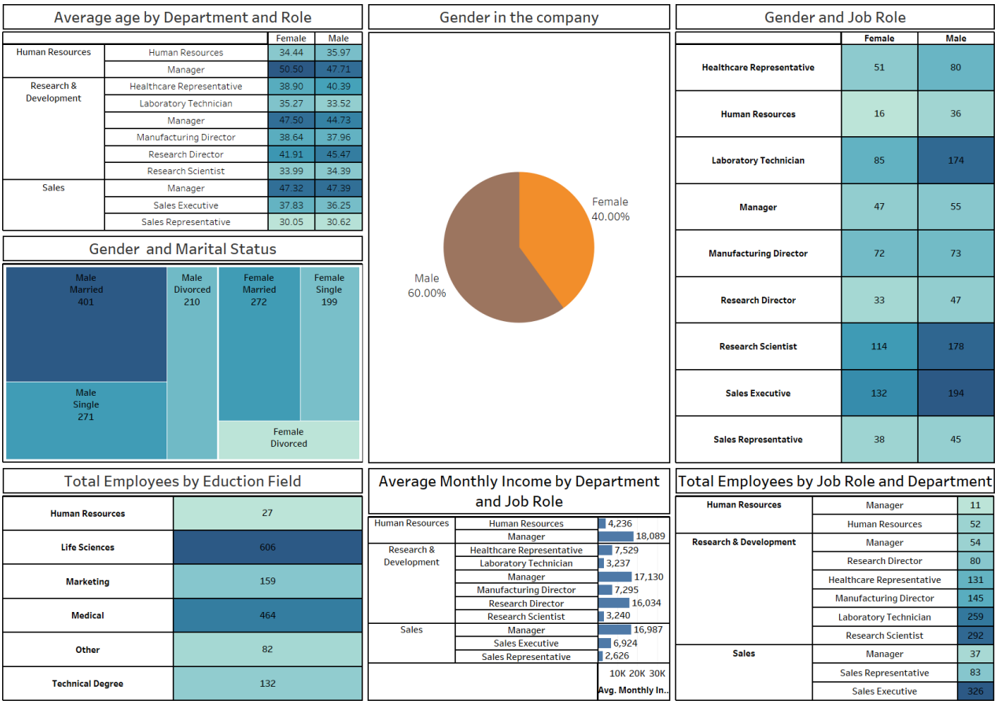

Layout of this report page (visuals, bound fields, positions):
{"tool":"tableau","page":{"name":"Dashboard 1","canvas":[1700,1200],"ordinal":0},"visuals":[{"type":"worksheet","title":"Average age by Department and Role","mark":"Square","rows":["Department","JobRole"],"cols":["Gender"],"box":[8,8,617,391.5]},{"type":"worksheet","title":"Gender in the company","mark":"Pie","box":[625,8,518.9,783]},{"type":"worksheet","title":"Gender and Job Role","mark":"Square","rows":["JobRole"],"cols":["Gender"],"box":[1143.9,8,548.1,783]},{"type":"worksheet","title":"Gender  and Marital Status ","mark":"Automatic","box":[8,399.5,617,391.5]},{"type":"worksheet","title":"Total Employees by Eduction Field","mark":"Square","rows":["EducationField"],"box":[8,791,617,401]},{"type":"worksheet","title":"Average Monthly Income by Department and Job Role","mark":"Automatic","rows":["Department","JobRole"],"cols":["MonthlyIncome"],"box":[625,791,519,401]},{"type":"worksheet","title":"Total Employees by Job Role and Department","mark":"Square","rows":["Department","JobRole"],"box":[1144,791,548,401]}]}

Visuals, with their boxes in screenshot pixels (x1, y1, x2, y2), scaled from the page's 1700x1200 canvas onto the 999x706 screenshot:
"Average age by Department and Role" worksheet (Square marks): x1=5, y1=5, x2=367, y2=235
"Gender in the company" worksheet (Pie marks): x1=367, y1=5, x2=672, y2=465
"Gender and Job Role" worksheet (Square marks): x1=672, y1=5, x2=994, y2=465
"Gender  and Marital Status " worksheet: x1=5, y1=235, x2=367, y2=465
"Total Employees by Eduction Field" worksheet (Square marks): x1=5, y1=465, x2=367, y2=701
"Average Monthly Income by Department and Job Role" worksheet: x1=367, y1=465, x2=672, y2=701
"Total Employees by Job Role and Department" worksheet (Square marks): x1=672, y1=465, x2=994, y2=701
